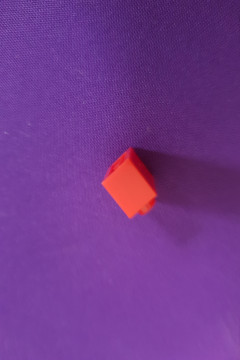1x2 red: (99, 146, 159, 220)
